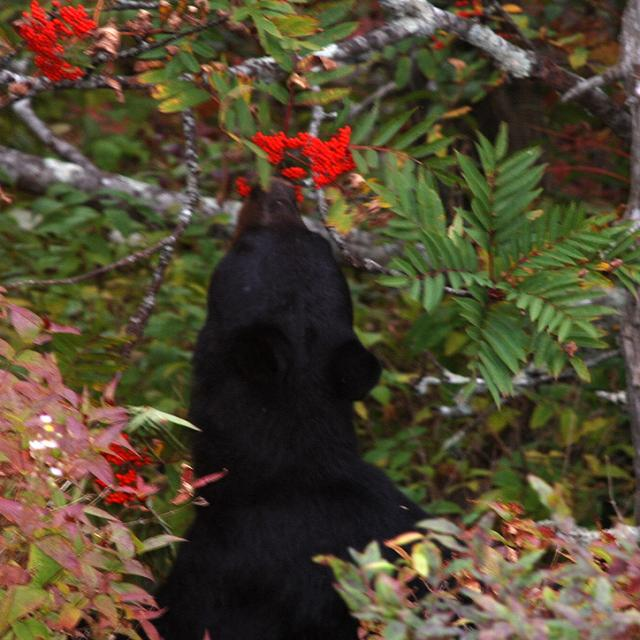Bear: (155, 175, 457, 640)
